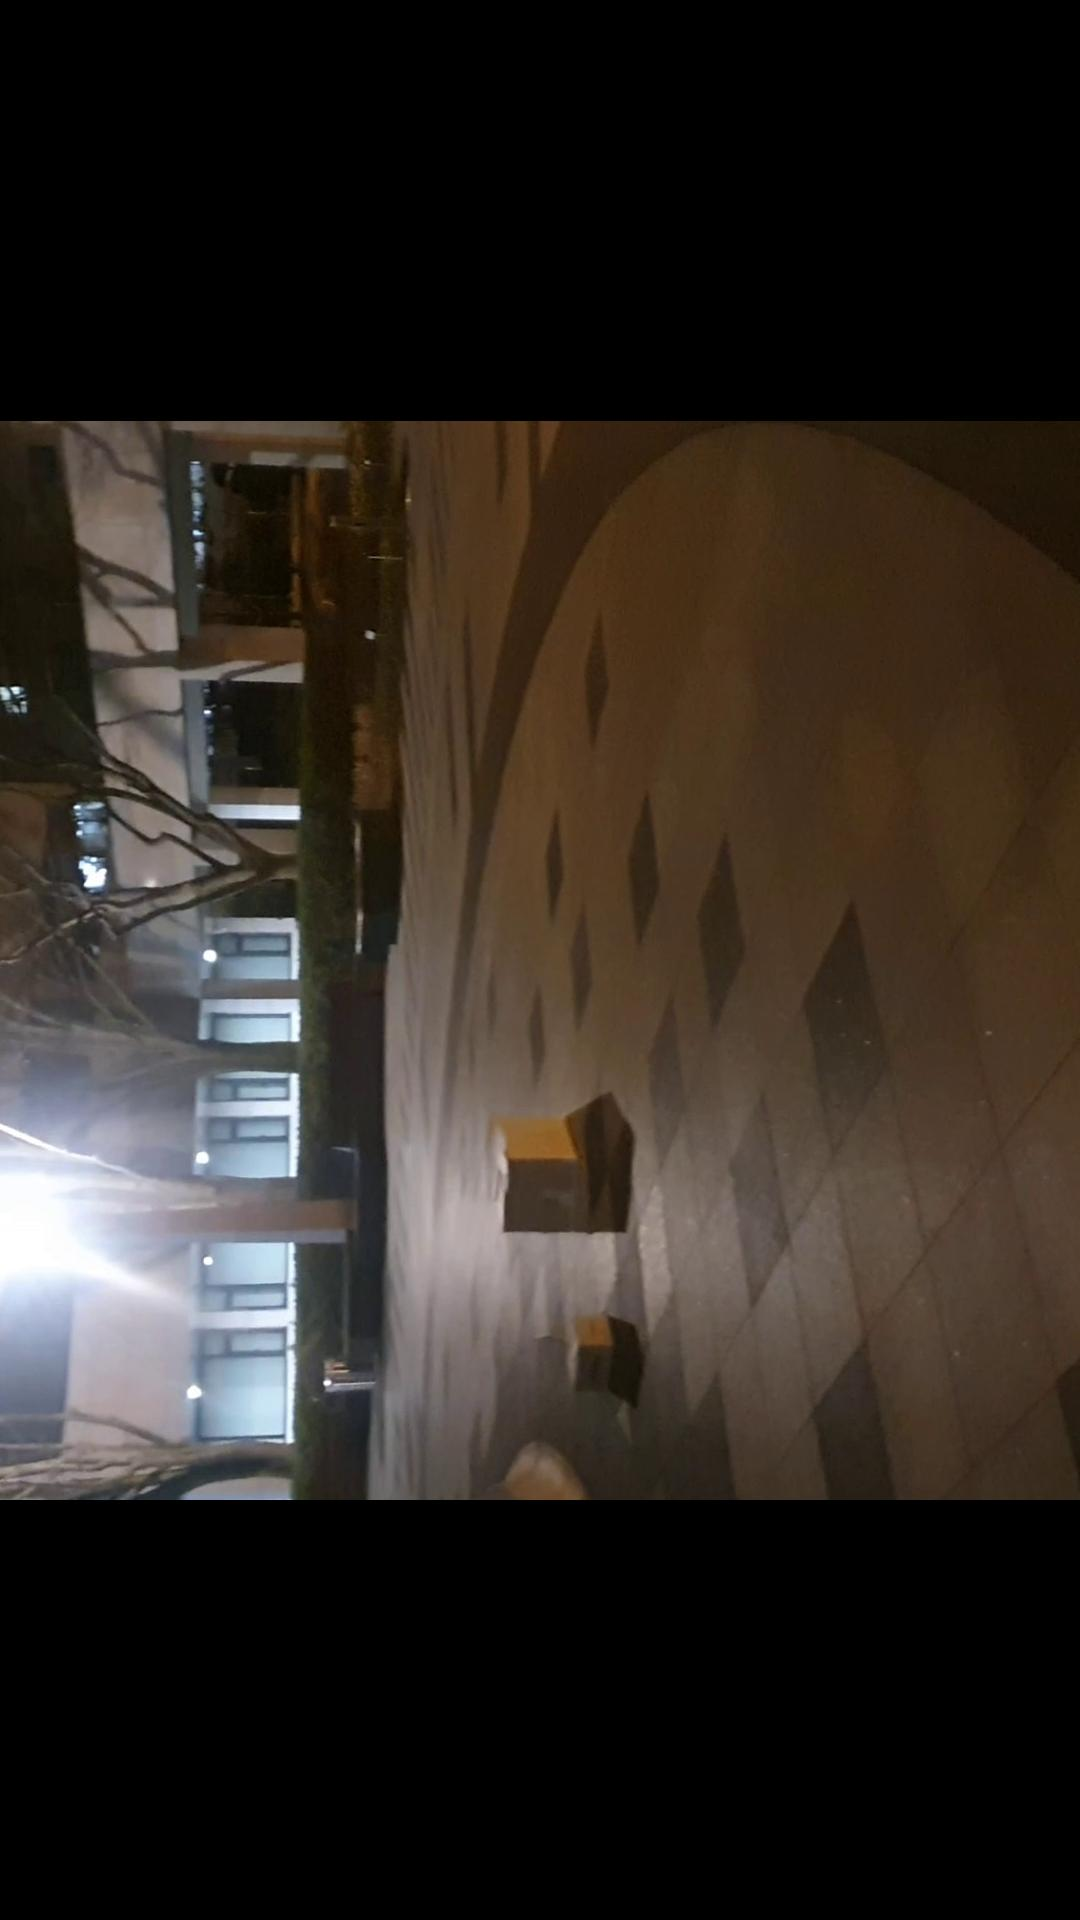Box: (483, 1110, 605, 1267), (539, 1305, 630, 1394)
